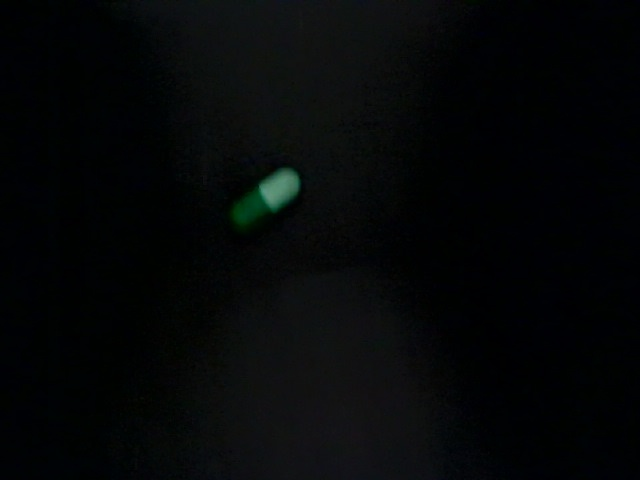YHLJ: (203, 372, 463, 452)
